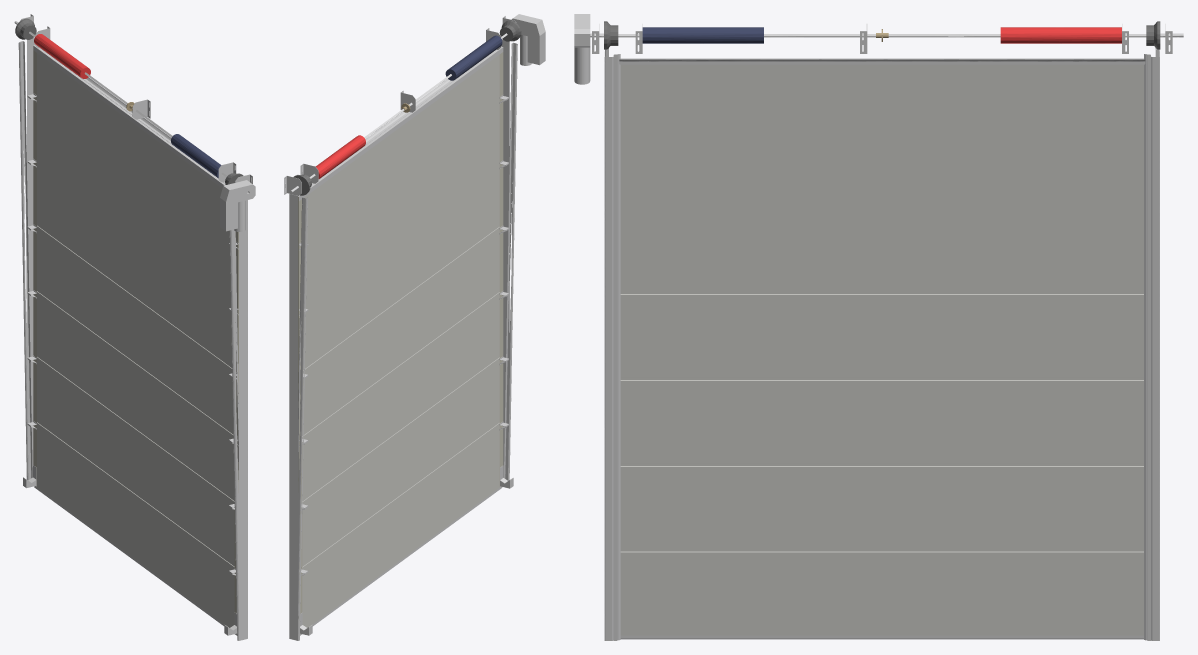
The model's file is Door.fbx.
3 views of the same model, side by side, from view 1: azimuth 30°, elevation 25°; view 2: azimuth 150°, elevation 25°; view 3: azimuth 270°, elevation 25° (orthographic). The views are drawn at different scales.
Visible parts, largest first — view 1: Alutech Полотно ворот, Оцинкованная сталь RAL 7047, Alutech Боковые накладки, Alutech Оцинкованная сталь Левая пружина, Alutech Оцинкованная сталь Правая пружина, Алюминий; view 2: Alutech Полотно ворот, Оцинкованная сталь RAL 7047, Alutech Боковые накладки, Alutech Оцинкованная сталь Правая пружина, Alutech Оцинкованная сталь Левая пружина, Алюминий; view 3: Alutech Полотно ворот, Оцинкованная сталь RAL 7047, Alutech Оцинкованная сталь Правая пружина, Alutech Оцинкованная сталь Левая пружина.
Part boxes in pixels (left/top/right/bottom): Alutech Полотно ворот: left=37, top=53, right=234, bottom=627; Оцинкованная сталь RAL 7047: left=14, top=14, right=255, bottom=640; Alutech Боковые накладки: left=33, top=50, right=238, bottom=613; Alutech Оцинкованная сталь Левая пружина: left=34, top=34, right=90, bottom=78; Alutech Оцинкованная сталь Правая пружина: left=171, top=134, right=221, bottom=177; Алюминий: left=15, top=18, right=243, bottom=184; Alutech Полотно ворот: left=302, top=55, right=499, bottom=627; Оцинкованная сталь RAL 7047: left=284, top=14, right=545, bottom=640; Alutech Боковые накладки: left=298, top=52, right=503, bottom=618; Alutech Оцинкованная сталь Правая пружина: left=445, top=35, right=502, bottom=80; Alutech Оцинкованная сталь Левая пружина: left=315, top=135, right=365, bottom=178; Алюминий: left=293, top=20, right=521, bottom=195; Alutech Полотно ворот: left=620, top=64, right=1143, bottom=635; Оцинкованная сталь RAL 7047: left=574, top=14, right=1183, bottom=640; Alutech Оцинкованная сталь Правая пружина: left=642, top=27, right=763, bottom=43; Alutech Оцинкованная сталь Левая пружина: left=1000, top=27, right=1121, bottom=43.
Bounding box in the file's own units: 337 × 4024 × 4455.
